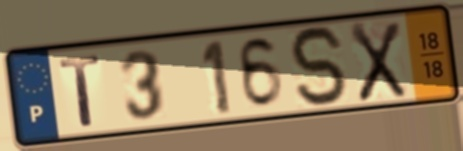1: (199, 38, 233, 117)
3: (117, 47, 166, 124)
6: (235, 34, 287, 111)
S: (286, 23, 353, 110)
T: (56, 52, 104, 130)
X: (346, 19, 409, 105)
